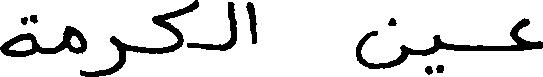X: (356, 13, 407, 73), (154, 0, 195, 58), (0, 10, 35, 61), (87, 31, 125, 76), (510, 13, 542, 55), (65, 21, 85, 76), (248, 0, 255, 48), (229, 0, 235, 53), (435, 30, 441, 76)
